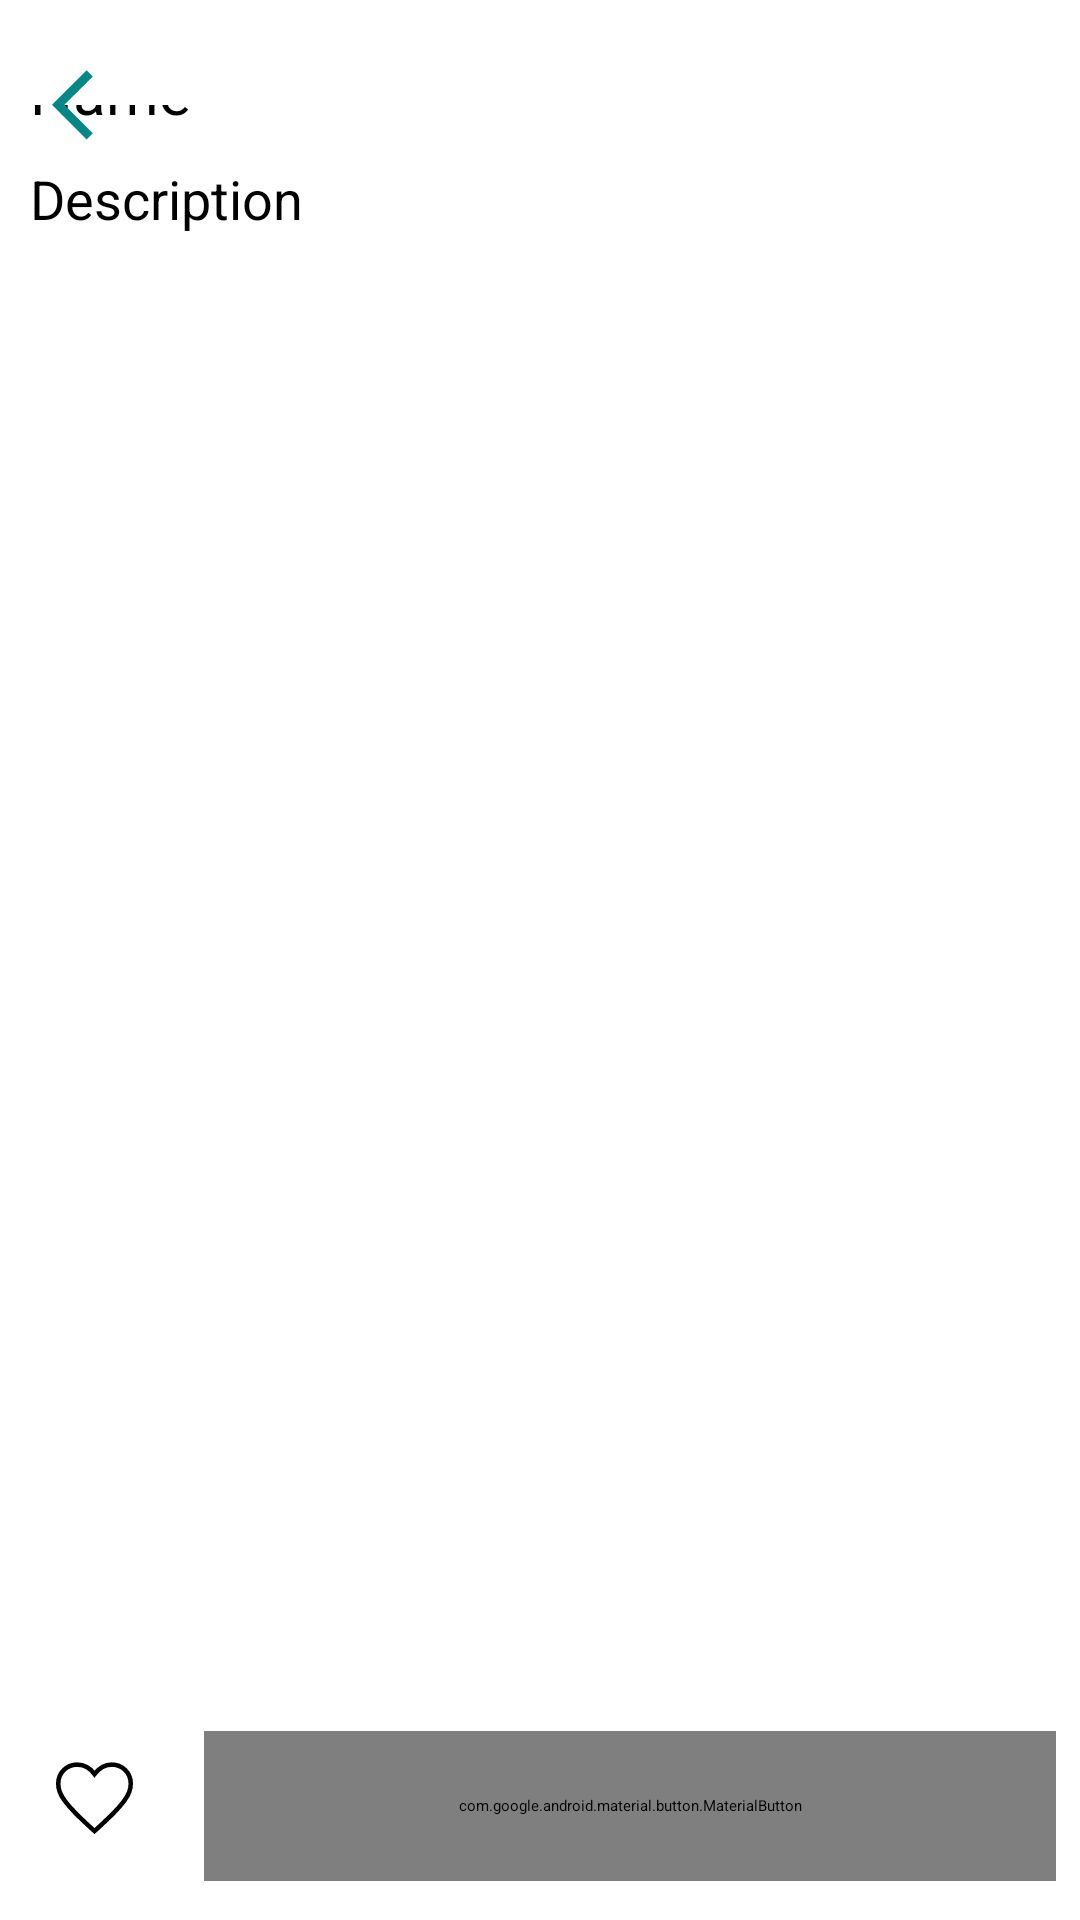

Icons on this 1080px x 1920px Android screen, each with its box as [x1=x1, y1=y1, x2=x2, y2=y2]:
wishlist stroked: [x1=56, y1=1762, x2=133, y2=1834]
